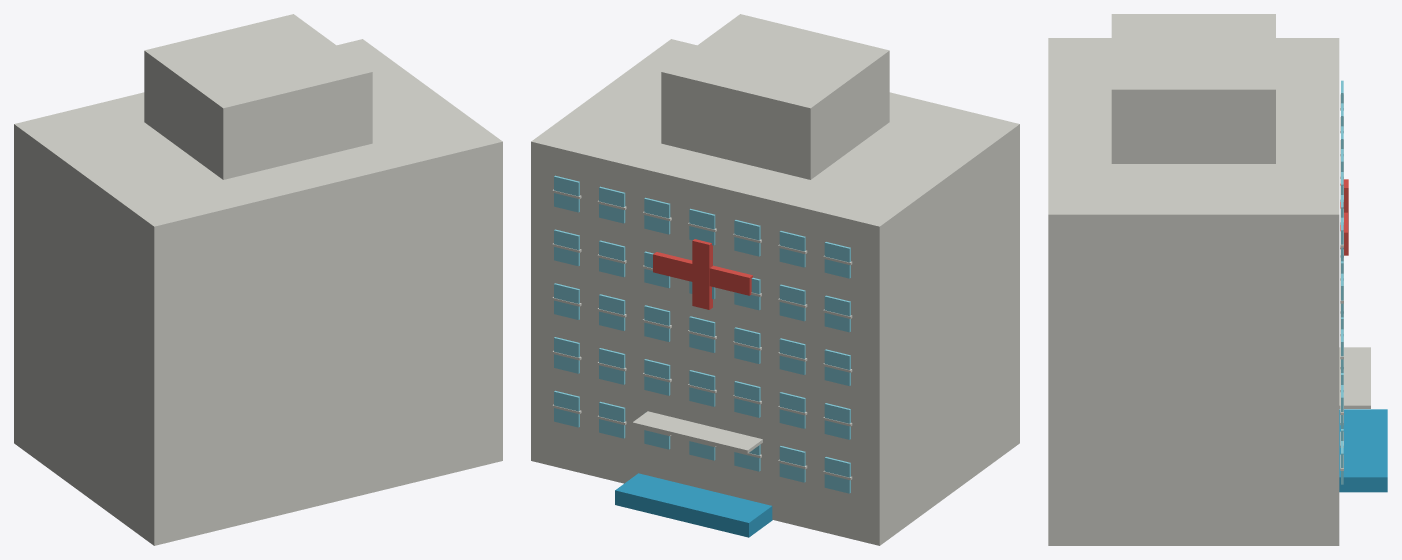
The picture shows the model from 3 angles, left to right: view 1: azimuth 30°, elevation 25°; view 2: azimuth 150°, elevation 25°; view 3: azimuth 270°, elevation 25°; orthographic projection. The views are drawn at different scales.
Visible parts, largest first — view 1: hospital-main, hospital-upper; view 2: hospital-main, hospital-upper, window (×29), emergency-portico, sign, medical-cross-bar, medical-cross-stem; view 3: hospital-main, hospital-upper, emergency-portico, sign.
Part boxes in pixels (x1,y1,x2,y2): hospital-main: (14,39,502,545); hospital-upper: (144,14,372,179); hospital-main: (531,39,1019,545); hospital-upper: (661,14,889,179); window (×29): (554,175,850,493); emergency-portico: (615,473,772,537); sign: (632,411,762,453); medical-cross-bar: (653,252,752,295); medical-cross-stem: (692,239,712,309); hospital-main: (1048,38,1339,545); hospital-upper: (1111,14,1275,163); emergency-portico: (1339,409,1387,492); sign: (1339,347,1370,408).
Bounding box in the file's own units: 11.2 × 12.03 × 9.1.
